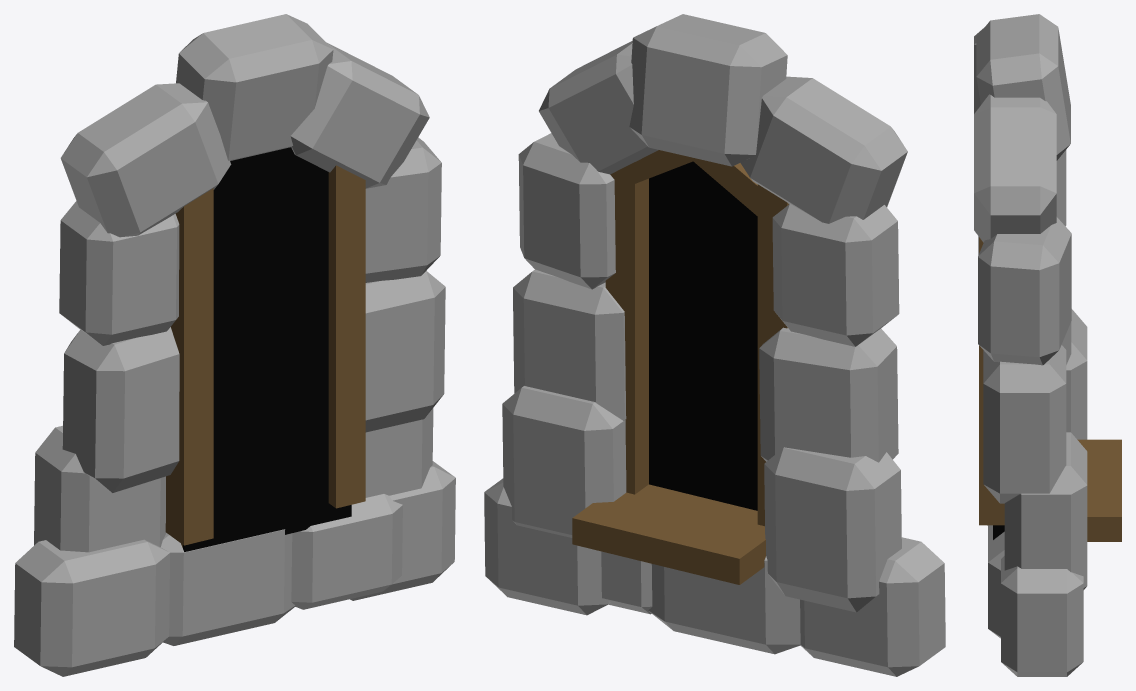
File: window_01.fbx
3 renders of one model, left to right at view 1: azimuth 30°, elevation 25°; view 2: azimuth 150°, elevation 25°; view 3: azimuth 270°, elevation 25°, orthographic. The views are drawn at different scales.
Parts seen in each view (by area): view 1: window; view 2: window; view 3: window.
Part boxes in pixels (box(x1,y1,x2,y2)): window: box(14, 14, 455, 676); window: box(484, 14, 945, 676); window: box(974, 14, 1121, 676).
Size of the model in its own units: 109 by 34.78 by 146.
